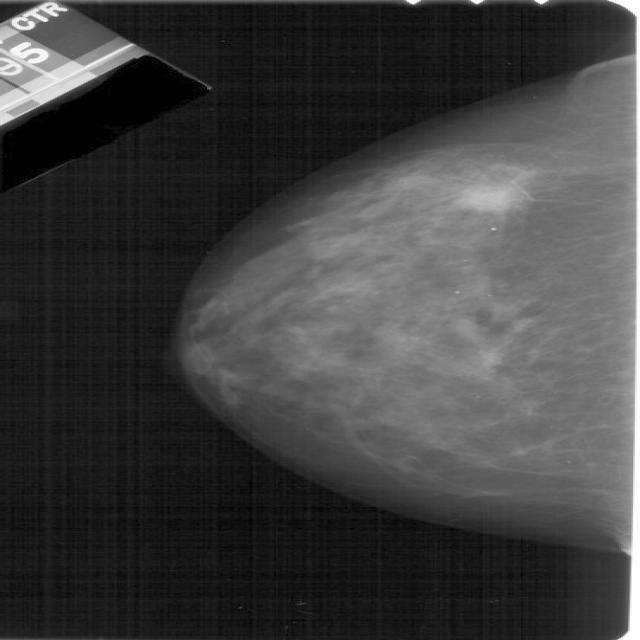tumour: (447, 178, 528, 212)
